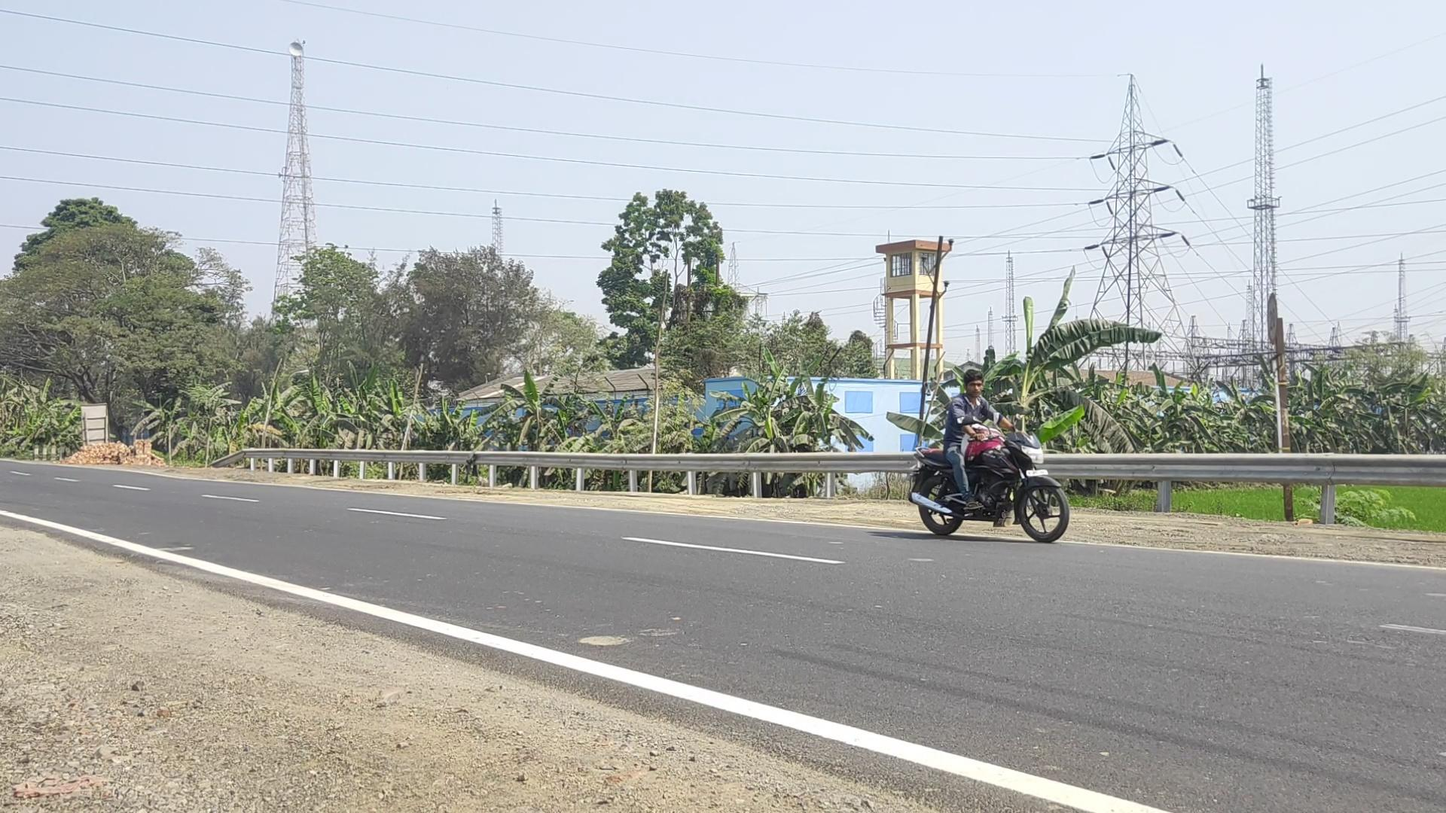bike: (908, 369, 1069, 543)
